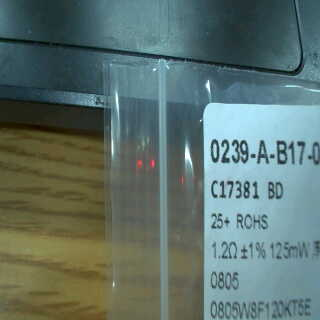1.2R: (209, 238, 241, 295)
